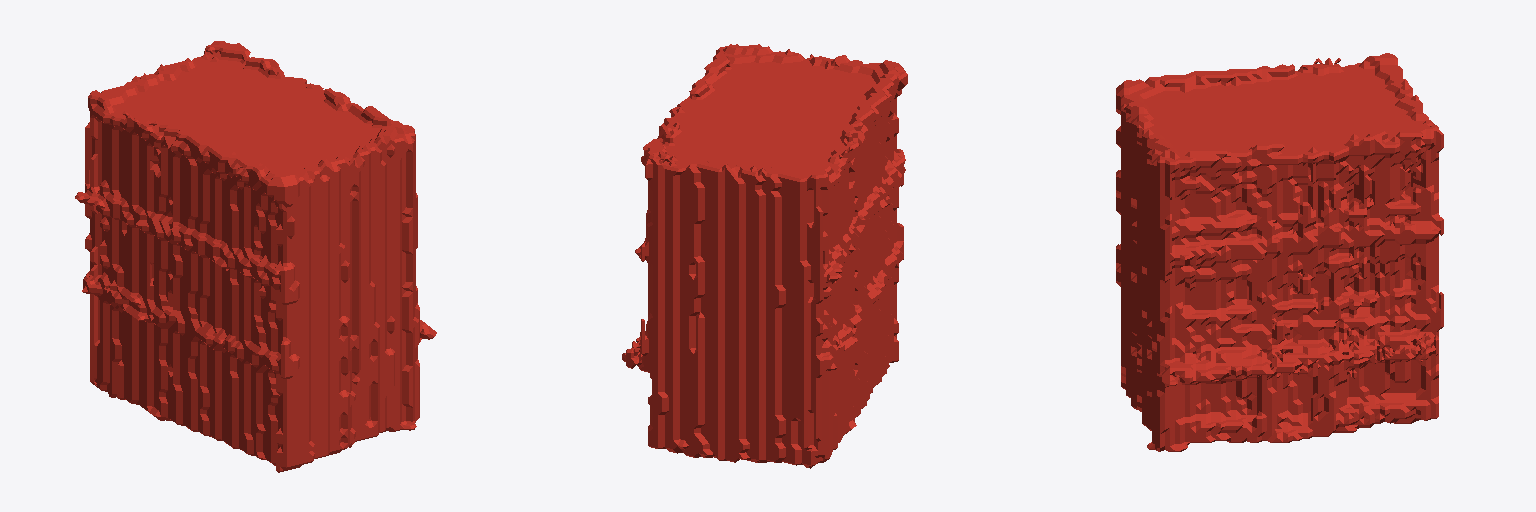
File: gen7_colored.obj
3 views of the same model, side by side, from view 1: azimuth 30°, elevation 25°; view 2: azimuth 150°, elevation 25°; view 3: azimuth 270°, elevation 25° (orthographic).
Parts seen in each view (by area): view 1: gen7.obj; view 2: gen7.obj; view 3: gen7.obj.
Part boxes in pixels (x1,y1,x2,y2): gen7.obj: (75, 41, 436, 472); gen7.obj: (622, 44, 907, 468); gen7.obj: (1116, 53, 1443, 451).
Size of the model in its own units: 57 by 64 by 64.